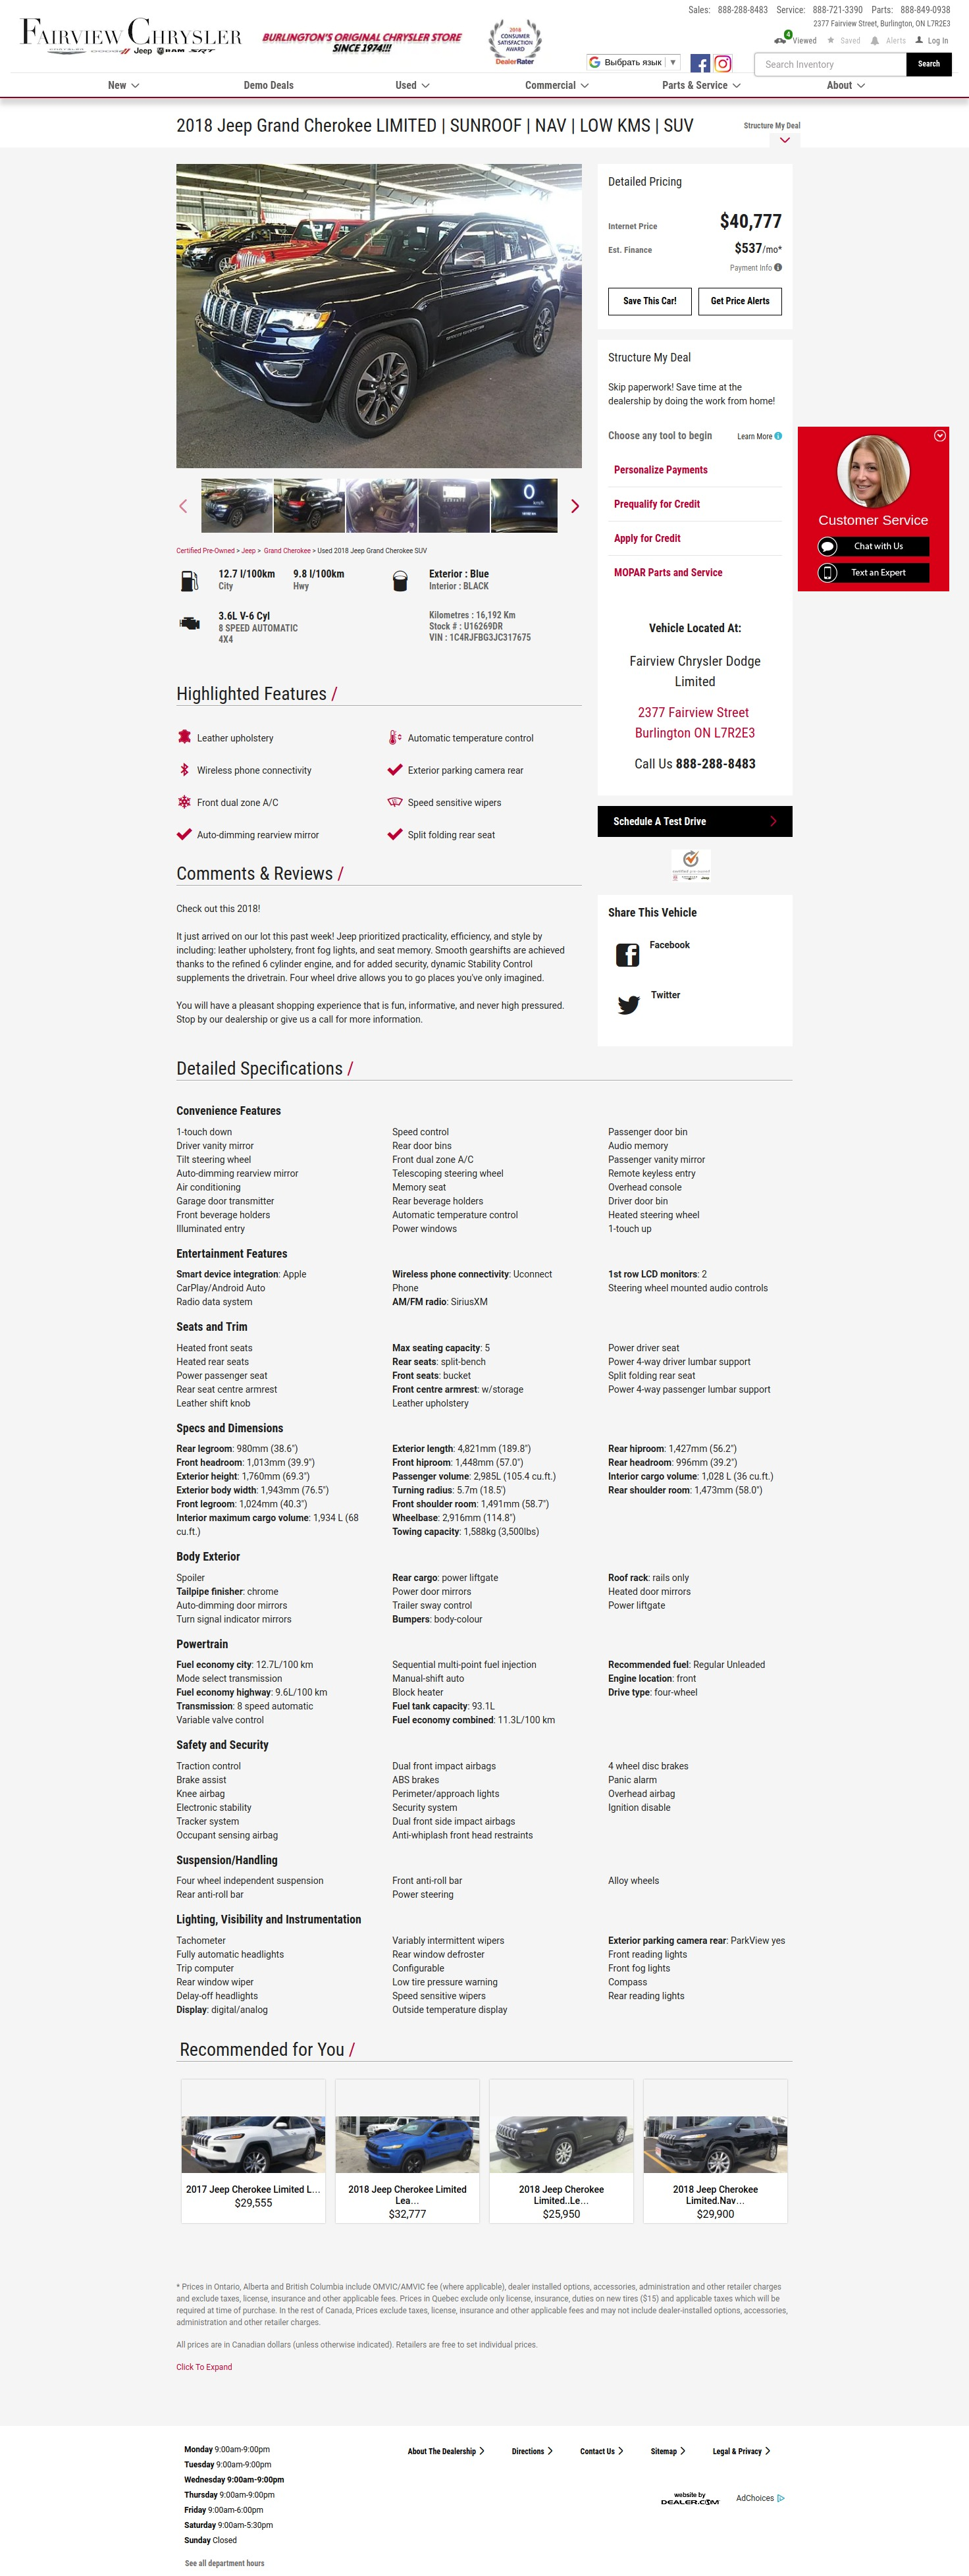car: (572, 499, 580, 514)
